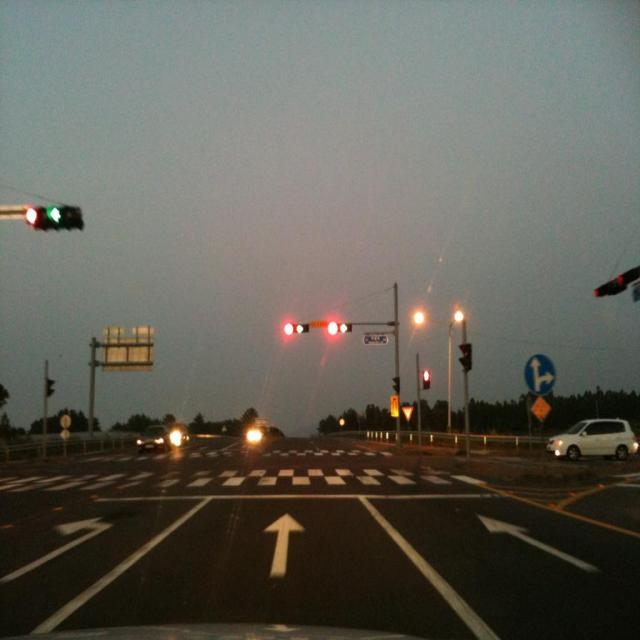road_sign: (523, 354, 557, 396)
traffic light: (457, 342, 472, 370), (327, 322, 352, 333), (284, 323, 310, 333), (423, 370, 430, 389)
